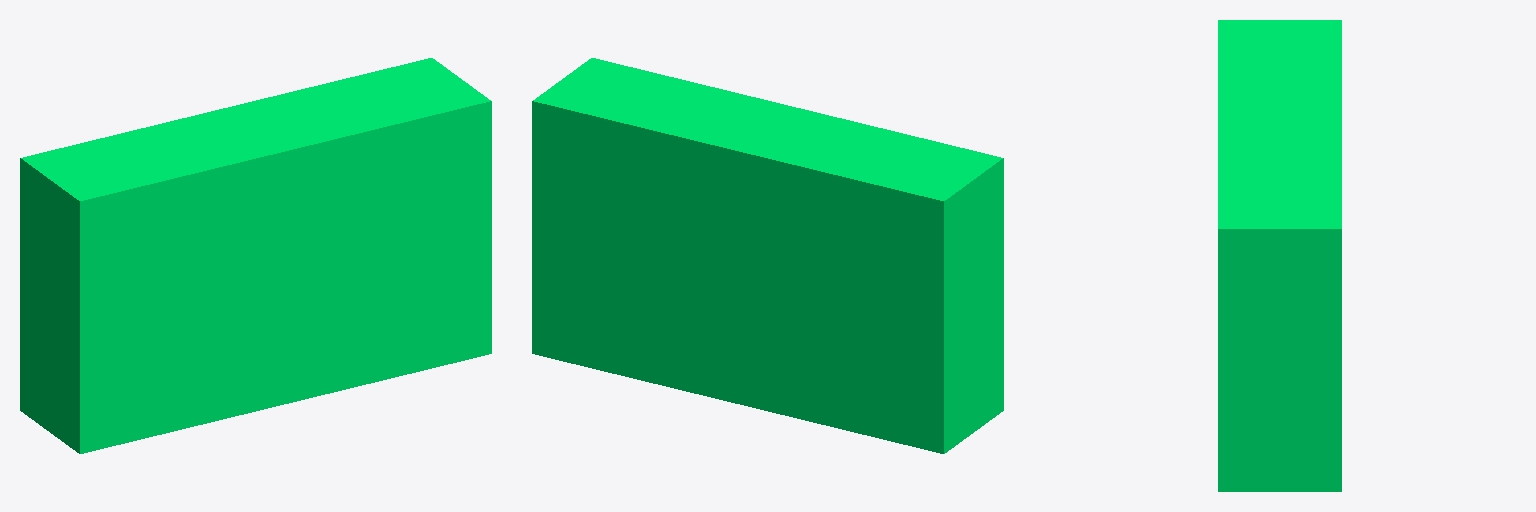
The robot description file, URDF, robot "myfirst":
<?xml version="1.0"?>
 <robot name="myfirst">
   <material name="green">
     <color rgba="0 1 0.498 1"/>
   </material>
   <link name="right_leg">
     <visual>
       <geometry>
         <box size="0.264 0.066 0.155"/>
       </geometry>
       <material name="green"/>
     </visual>
     <inertial>
       <mass value="0"/>
       <inertia ixx="1.0" ixy="0.0" ixz="0.0" iyy="1.0" iyz="0.0" izz="1.0"/>
     </inertial>
   </link>
 </robot>

--- What the picture shows (computed from the rendered views, not written in the file) ---
Views: 3 orthographic renders of the robot side by side, from view 1: azimuth 30°, elevation 25°; view 2: azimuth 150°, elevation 25°; view 3: azimuth 270°, elevation 25°.
Model myfirst with 1 links and 0 joints (none), rooted at right_leg, posed all joints at 0.
Links seen in each view (by area): view 1: right_leg; view 2: right_leg; view 3: right_leg.
Link boxes in pixels (left/top/right/bottom): right_leg: left=20, top=58, right=491, bottom=453; right_leg: left=532, top=58, right=1003, bottom=453; right_leg: left=1218, top=20, right=1341, bottom=491.
Bounding box of the posed robot: 0.264 × 0.066 × 0.155 m (x, y, z).
Geometry: primitives only (box / cylinder / sphere), no mesh files.